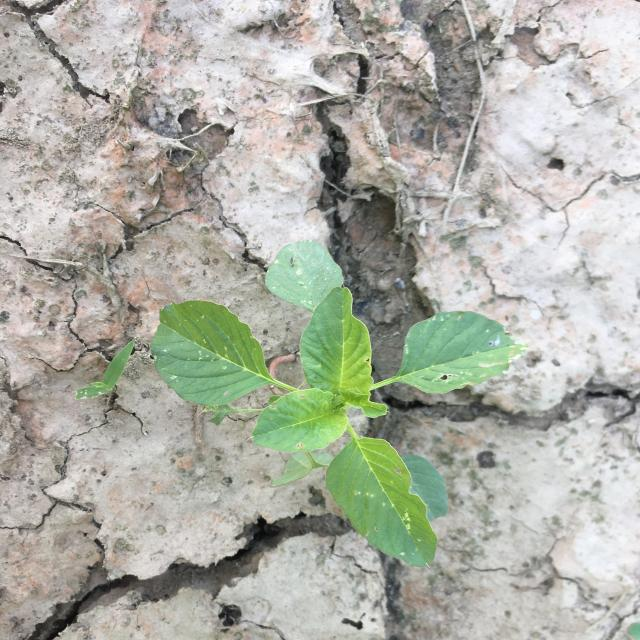PalmerAmaranth: (150, 239, 528, 568)
